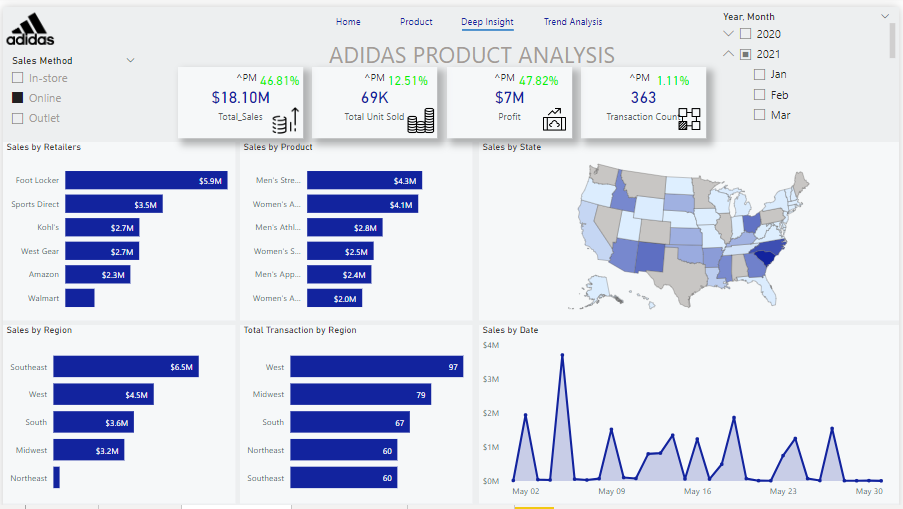

The page's visual inventory and layout, read from the dashboard file:
{"tool":"powerbi","page":{"name":"Deep Insight","canvas":[1280,720],"ordinal":2},"visuals":[{"type":"image","box":[0,0,78,62.4],"z":0},{"type":"group","id":"g1","title":"Group 3","box":[442.2,0,422.4,39.7],"z":0,"group":"g2"},{"type":"shape","box":[654.8,26.9,73.7,11.3],"z":1000,"group":"g2"},{"type":"barChart","title":"Sales by Retailers","fields":{"Category":["Data Sales Adidas.Retailer"],"Y":["Data Sales Adidas.Total_Sales"]},"box":[0,193.2,331.7,255],"z":1000},{"type":"slicer","fields":{"Values":["Data Sales Adidas.Sales Method"]},"box":[0,62.4,201.3,127.6],"z":2000},{"type":"group","id":"g2","title":"Group 4","box":[442.2,0,422.4,39.7],"z":3000},{"type":"textbox","box":[442.2,39.7,455,58.1],"z":4000},{"type":"barChart","title":"Sales by Region","fields":{"Category":["Location.Region"],"Y":["Data Sales Adidas.Total_Sales"]},"box":[0,455,331.7,255],"z":5000},{"type":"barChart","title":"Sales by Product","fields":{"Category":["Product.Product"],"Y":["Data Sales Adidas.Total_Sales"]},"box":[338.7,193.2,331.7,255],"z":6000},{"type":"barChart","title":"Total Transaction by Region","fields":{"Category":["Location.Region"],"Y":["Data Sales Adidas.Transaction Count"]},"box":[338.7,455,331.7,255],"z":7000},{"type":"shapeMap","title":"Sales by State","fields":{"Value":["Data Sales Adidas.Total_Sales"],"Category":["Location.State"]},"box":[680.3,192.8,599.5,255.1],"z":8000},{"type":"slicer","fields":{"Values":["Calendar.Year","Calendar.Month"]},"box":[1016.2,0,263.6,171.5],"z":9000},{"type":"actionButton","box":[442.2,0,100.6,39.7],"z":10000,"group":"g1"},{"type":"card","fields":{"Values":["Data Sales Adidas.Total_Sales"]},"box":[249.4,85,178.6,102],"z":10000},{"type":"actionButton","box":[540,0,100.6,39.7],"z":11000,"group":"g1"},{"type":"image","box":[379.8,137.5,48.2,49.6],"z":11000},{"type":"actionButton","box":[640.6,0,100.6,39.7],"z":12000,"group":"g1"},{"type":"card","fields":{"Values":["Data Sales Adidas.Total Unit Sold"]},"box":[441.7,85,178.6,102],"z":12000},{"type":"actionButton","box":[763.9,0,100.6,39.7],"z":13000,"group":"g1"},{"type":"card","fields":{"Values":["Data Sales Adidas.Profit"]},"box":[634,85,178.6,102],"z":13000},{"type":"card","fields":{"Values":["Data Sales Adidas.Transaction Count"]},"box":[826.3,85,178.6,102],"z":14000},{"type":"image","box":[572.6,137.5,48.2,49.6],"z":15000},{"type":"image","box":[763.9,136.1,46.8,49.6],"z":16000},{"type":"image","box":[956.7,136.1,46.8,49.6],"z":17000},{"type":"card","fields":{"Values":["Data Sales Adidas.SalesMOM"]},"box":[348.7,85,93.5,38.3],"z":18000},{"type":"card","fields":{"Values":["Data Sales Adidas.UnitSoldMOM"]},"box":[531.5,85,93.5,38.3],"z":19000},{"type":"card","fields":{"Values":["Data Sales Adidas.ProfitMOM"]},"box":[718.6,85,93.5,38.3],"z":20000},{"type":"card","fields":{"Values":["Data Sales Adidas.TransCountMOM"]},"box":[909.9,85,93.5,38.3],"z":21000},{"type":"textbox","box":[323.1,85,49.6,34],"z":22000},{"type":"textbox","box":[506,85,49.6,34],"z":23000},{"type":"textbox","box":[691.7,85,49.6,34],"z":24000},{"type":"textbox","box":[884.4,85,49.6,34],"z":25000},{"type":"areaChart","title":"Sales by Date","fields":{"Y":["Data Sales Adidas.Total_Sales"],"Category":["Calendar.Date.Variation.Date Hierarchy.Year","Calendar.Date.Variation.Date Hierarchy.Quarter","Calendar.Date.Variation.Date Hierarchy.Month","Calendar.Date.Variation.Date Hierarchy.Day"]},"box":[680.3,455,599.5,255.1],"z":26000}]}

Visuals, with their boxes on the page's 1280x720 design canvas (x1, y1, x2, y2). These are canvas units, not pixel positions in the 903x509 screenshot, which may show the page scaled, cropped or inside an application window:
image: bbox=[0, 0, 78, 62]
"Group 3" group: bbox=[442, 0, 865, 40]
shape: bbox=[655, 27, 728, 38]
"Sales by Retailers" barChart: bbox=[0, 193, 332, 448]
slicer - Data Sales Adidas.Sales Method: bbox=[0, 62, 201, 190]
"Group 4" group: bbox=[442, 0, 865, 40]
textbox: bbox=[442, 40, 897, 98]
"Sales by Region" barChart: bbox=[0, 455, 332, 710]
"Sales by Product" barChart: bbox=[339, 193, 670, 448]
"Total Transaction by Region" barChart: bbox=[339, 455, 670, 710]
"Sales by State" shapeMap: bbox=[680, 193, 1280, 448]
slicer - Calendar.Year x Calendar.Month: bbox=[1016, 0, 1280, 172]
actionButton: bbox=[442, 0, 543, 40]
card - Data Sales Adidas.Total_Sales: bbox=[249, 85, 428, 187]
actionButton: bbox=[540, 0, 641, 40]
image: bbox=[380, 138, 428, 187]
actionButton: bbox=[641, 0, 741, 40]
card - Data Sales Adidas.Total Unit Sold: bbox=[442, 85, 620, 187]
actionButton: bbox=[764, 0, 864, 40]
card - Data Sales Adidas.Profit: bbox=[634, 85, 813, 187]
card - Data Sales Adidas.Transaction Count: bbox=[826, 85, 1005, 187]
image: bbox=[573, 138, 621, 187]
image: bbox=[764, 136, 811, 186]
image: bbox=[957, 136, 1004, 186]
card - Data Sales Adidas.SalesMOM: bbox=[349, 85, 442, 123]
card - Data Sales Adidas.UnitSoldMOM: bbox=[532, 85, 625, 123]
card - Data Sales Adidas.ProfitMOM: bbox=[719, 85, 812, 123]
card - Data Sales Adidas.TransCountMOM: bbox=[910, 85, 1003, 123]
textbox: bbox=[323, 85, 373, 119]
textbox: bbox=[506, 85, 556, 119]
textbox: bbox=[692, 85, 741, 119]
textbox: bbox=[884, 85, 934, 119]
"Sales by Date" areaChart: bbox=[680, 455, 1280, 710]
